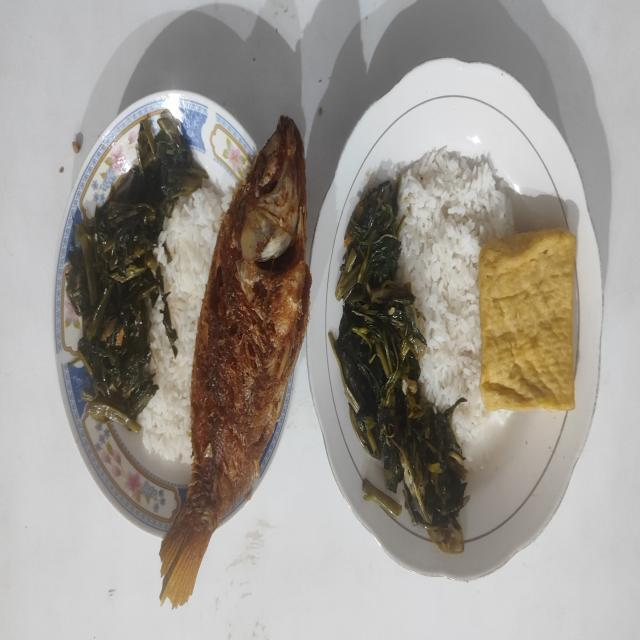ikan_mujair: (160, 116, 312, 606)
nasi_putih: (390, 149, 514, 451), (140, 187, 230, 462)
tahu_goreng: (478, 228, 576, 410)
tumis_kangkung: (328, 181, 469, 554), (65, 114, 207, 424)
